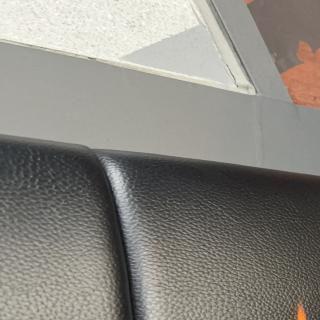fire: (297, 301, 312, 320)
